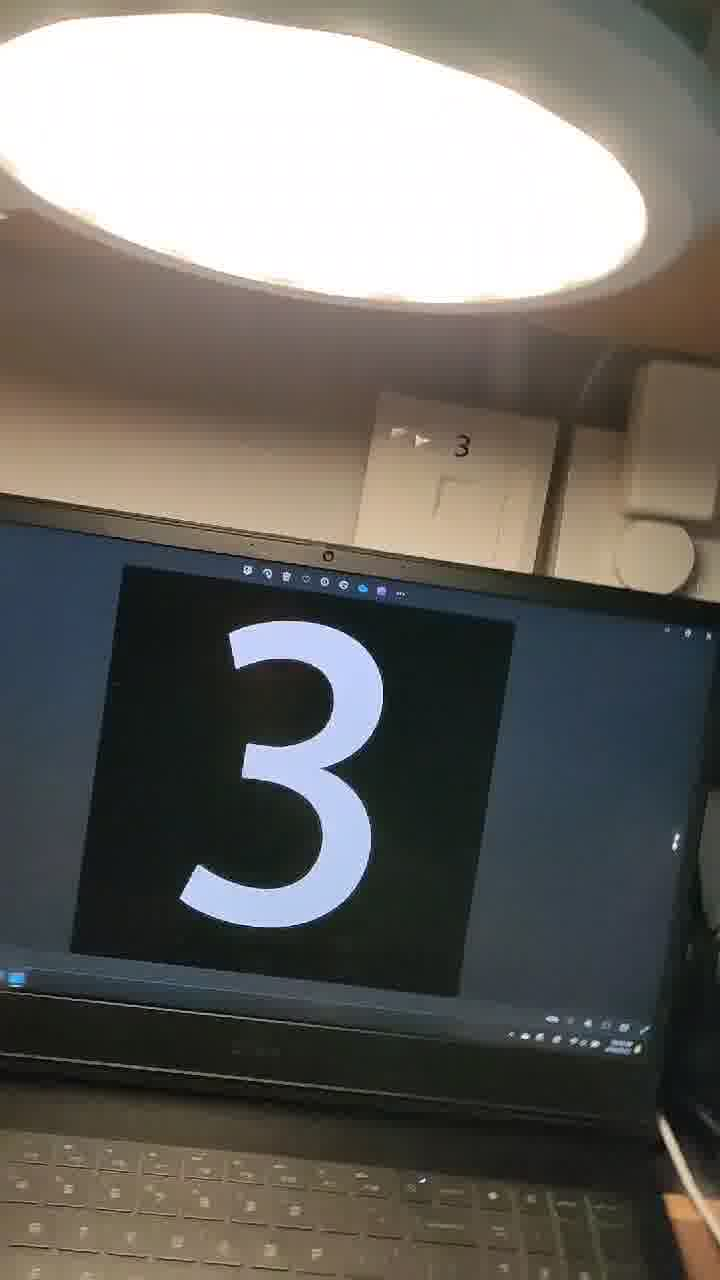three: (134, 599, 383, 981)
